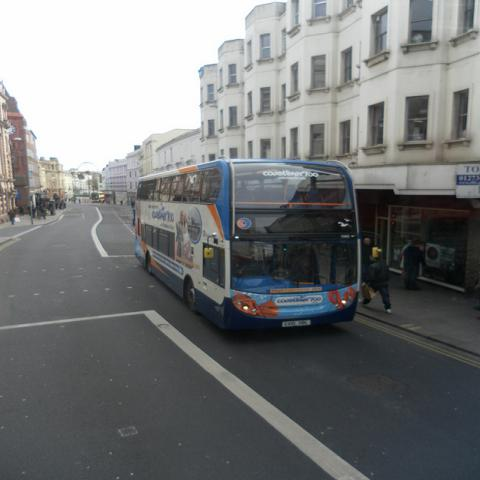bus: (132, 155, 362, 330)
